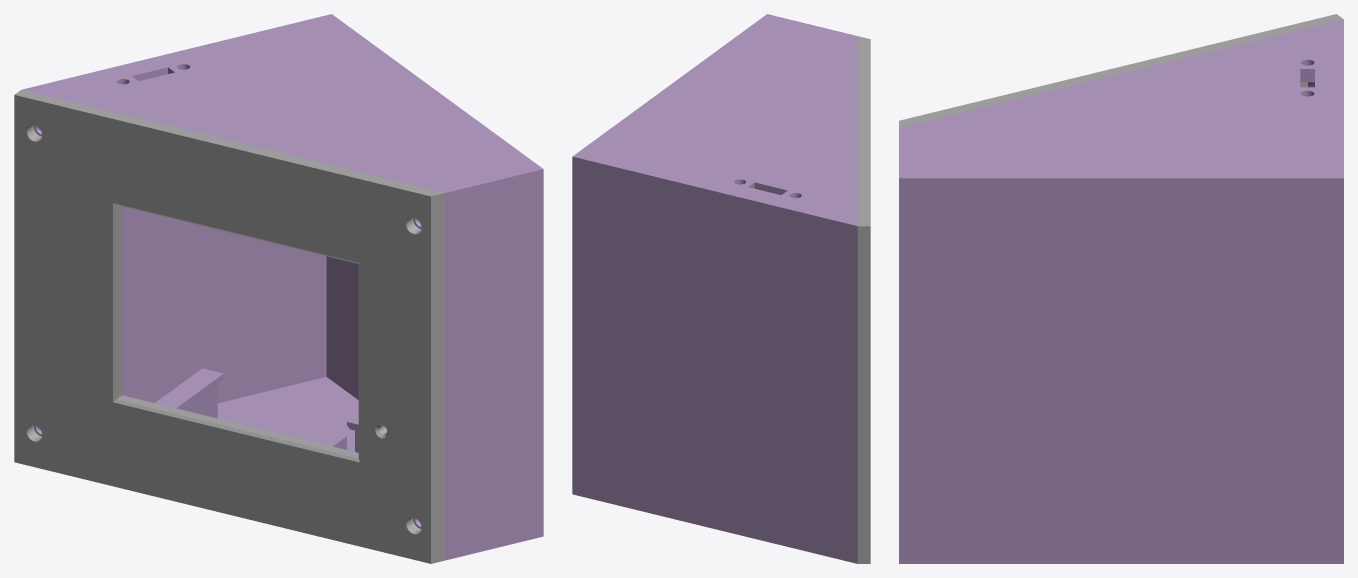
Rendered from case.glb.
3 views of the same model, side by side, from view 1: azimuth 30°, elevation 25°; view 2: azimuth 150°, elevation 25°; view 3: azimuth 270°, elevation 25° (orthographic). The views are drawn at different scales.
Parts seen in each view (by area): view 1: base, front_panel; view 2: base, front_panel; view 3: base, front_panel.
Part boxes in pixels (x1,y1,x2,y2): base: [22, 14, 543, 560]; front_panel: [14, 90, 444, 563]; base: [572, 14, 857, 563]; front_panel: [857, 36, 870, 563]; base: [899, 19, 1343, 563]; front_panel: [899, 14, 1343, 127].
Bounding box in the file's own units: 79.5 × 87 × 90.93.
